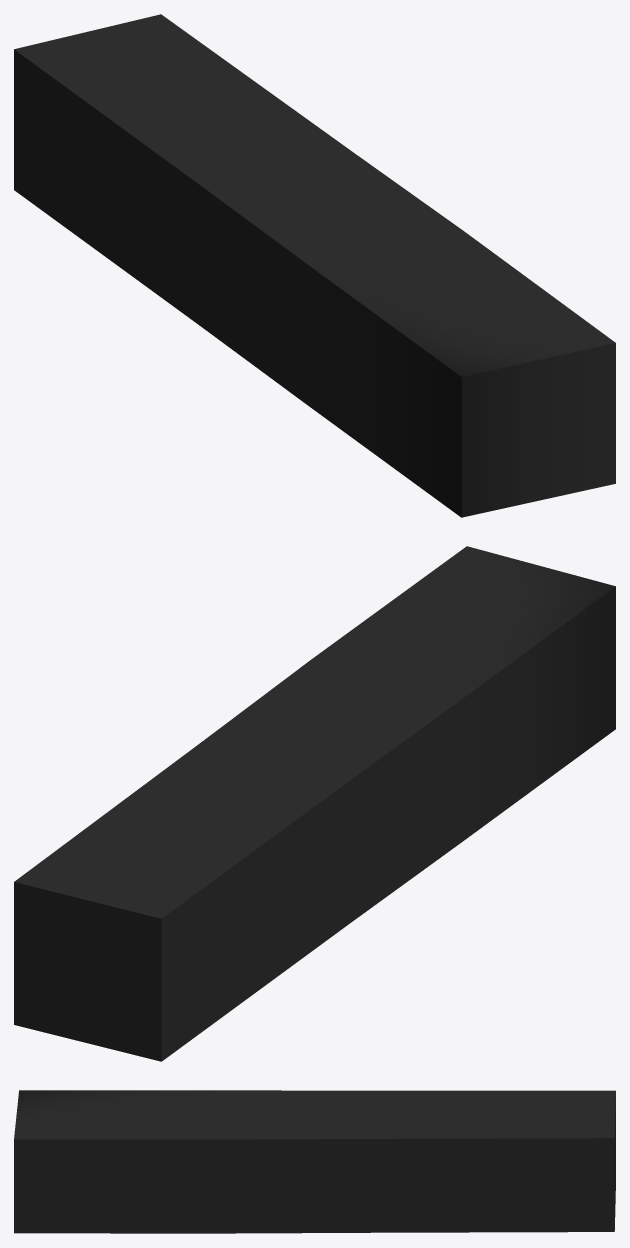
File: ThompsonMagazineG.fbx
3 renders of one model, top to bottom at view 1: azimuth 30°, elevation 25°; view 2: azimuth 150°, elevation 25°; view 3: azimuth 270°, elevation 25°, orthographic. The views are drawn at different scales.
Parts seen in each view (by area): view 1: node_9dd0f6f6_31ed_4a20_9721_c0e673ea2e27_mesh0; view 2: node_9dd0f6f6_31ed_4a20_9721_c0e673ea2e27_mesh0; view 3: node_9dd0f6f6_31ed_4a20_9721_c0e673ea2e27_mesh0.
Part boxes in pixels (x1=…): node_9dd0f6f6_31ed_4a20_9721_c0e673ea2e27_mesh0: x1=14, y1=14, x2=615, y2=517; node_9dd0f6f6_31ed_4a20_9721_c0e673ea2e27_mesh0: x1=14, y1=546, x2=615, y2=1061; node_9dd0f6f6_31ed_4a20_9721_c0e673ea2e27_mesh0: x1=14, y1=1090, x2=615, y2=1233.
Bounding box in the file's own units: 0.0195 × 0.0174 × 0.1009.
